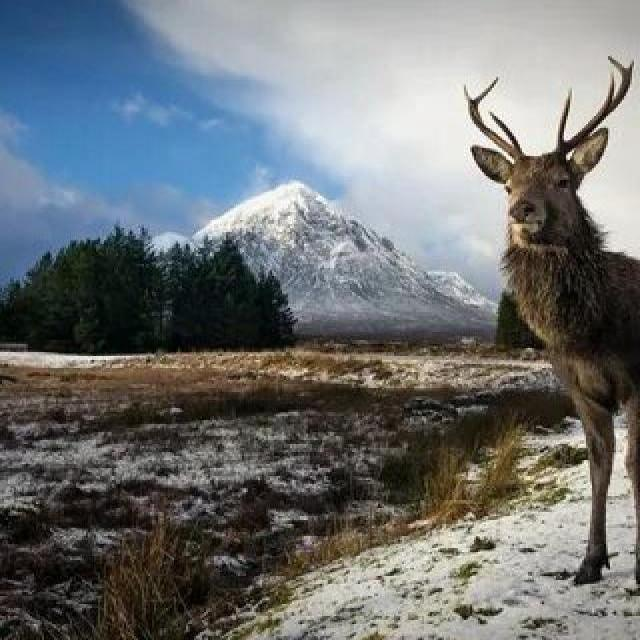deer: (422, 49, 640, 559)
